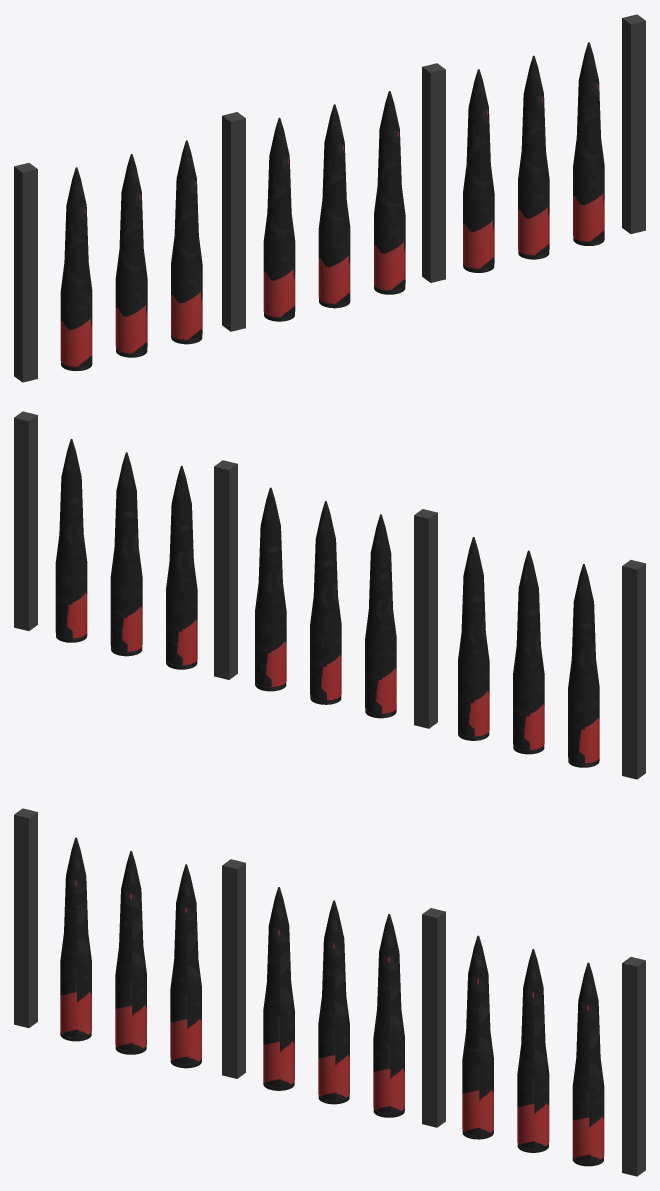
The model's file is Bullet.fbx.
3 views of the same model, one above another, from view 1: azimuth 30°, elevation 25°; view 2: azimuth 150°, elevation 25°; view 3: azimuth 330°, elevation 25° (orthographic).
Visible parts, largest first — view 1: Cylinder.013; view 2: Cylinder.013; view 3: Cylinder.013.
Part boxes in pixels (x1=…): Cylinder.013: x1=14, y1=14, x2=645, y2=382; Cylinder.013: x1=14, y1=411, x2=645, y2=779; Cylinder.013: x1=14, y1=808, x2=645, y2=1176.
Size of the model in its own units: 4192 by 1349 by 185.
